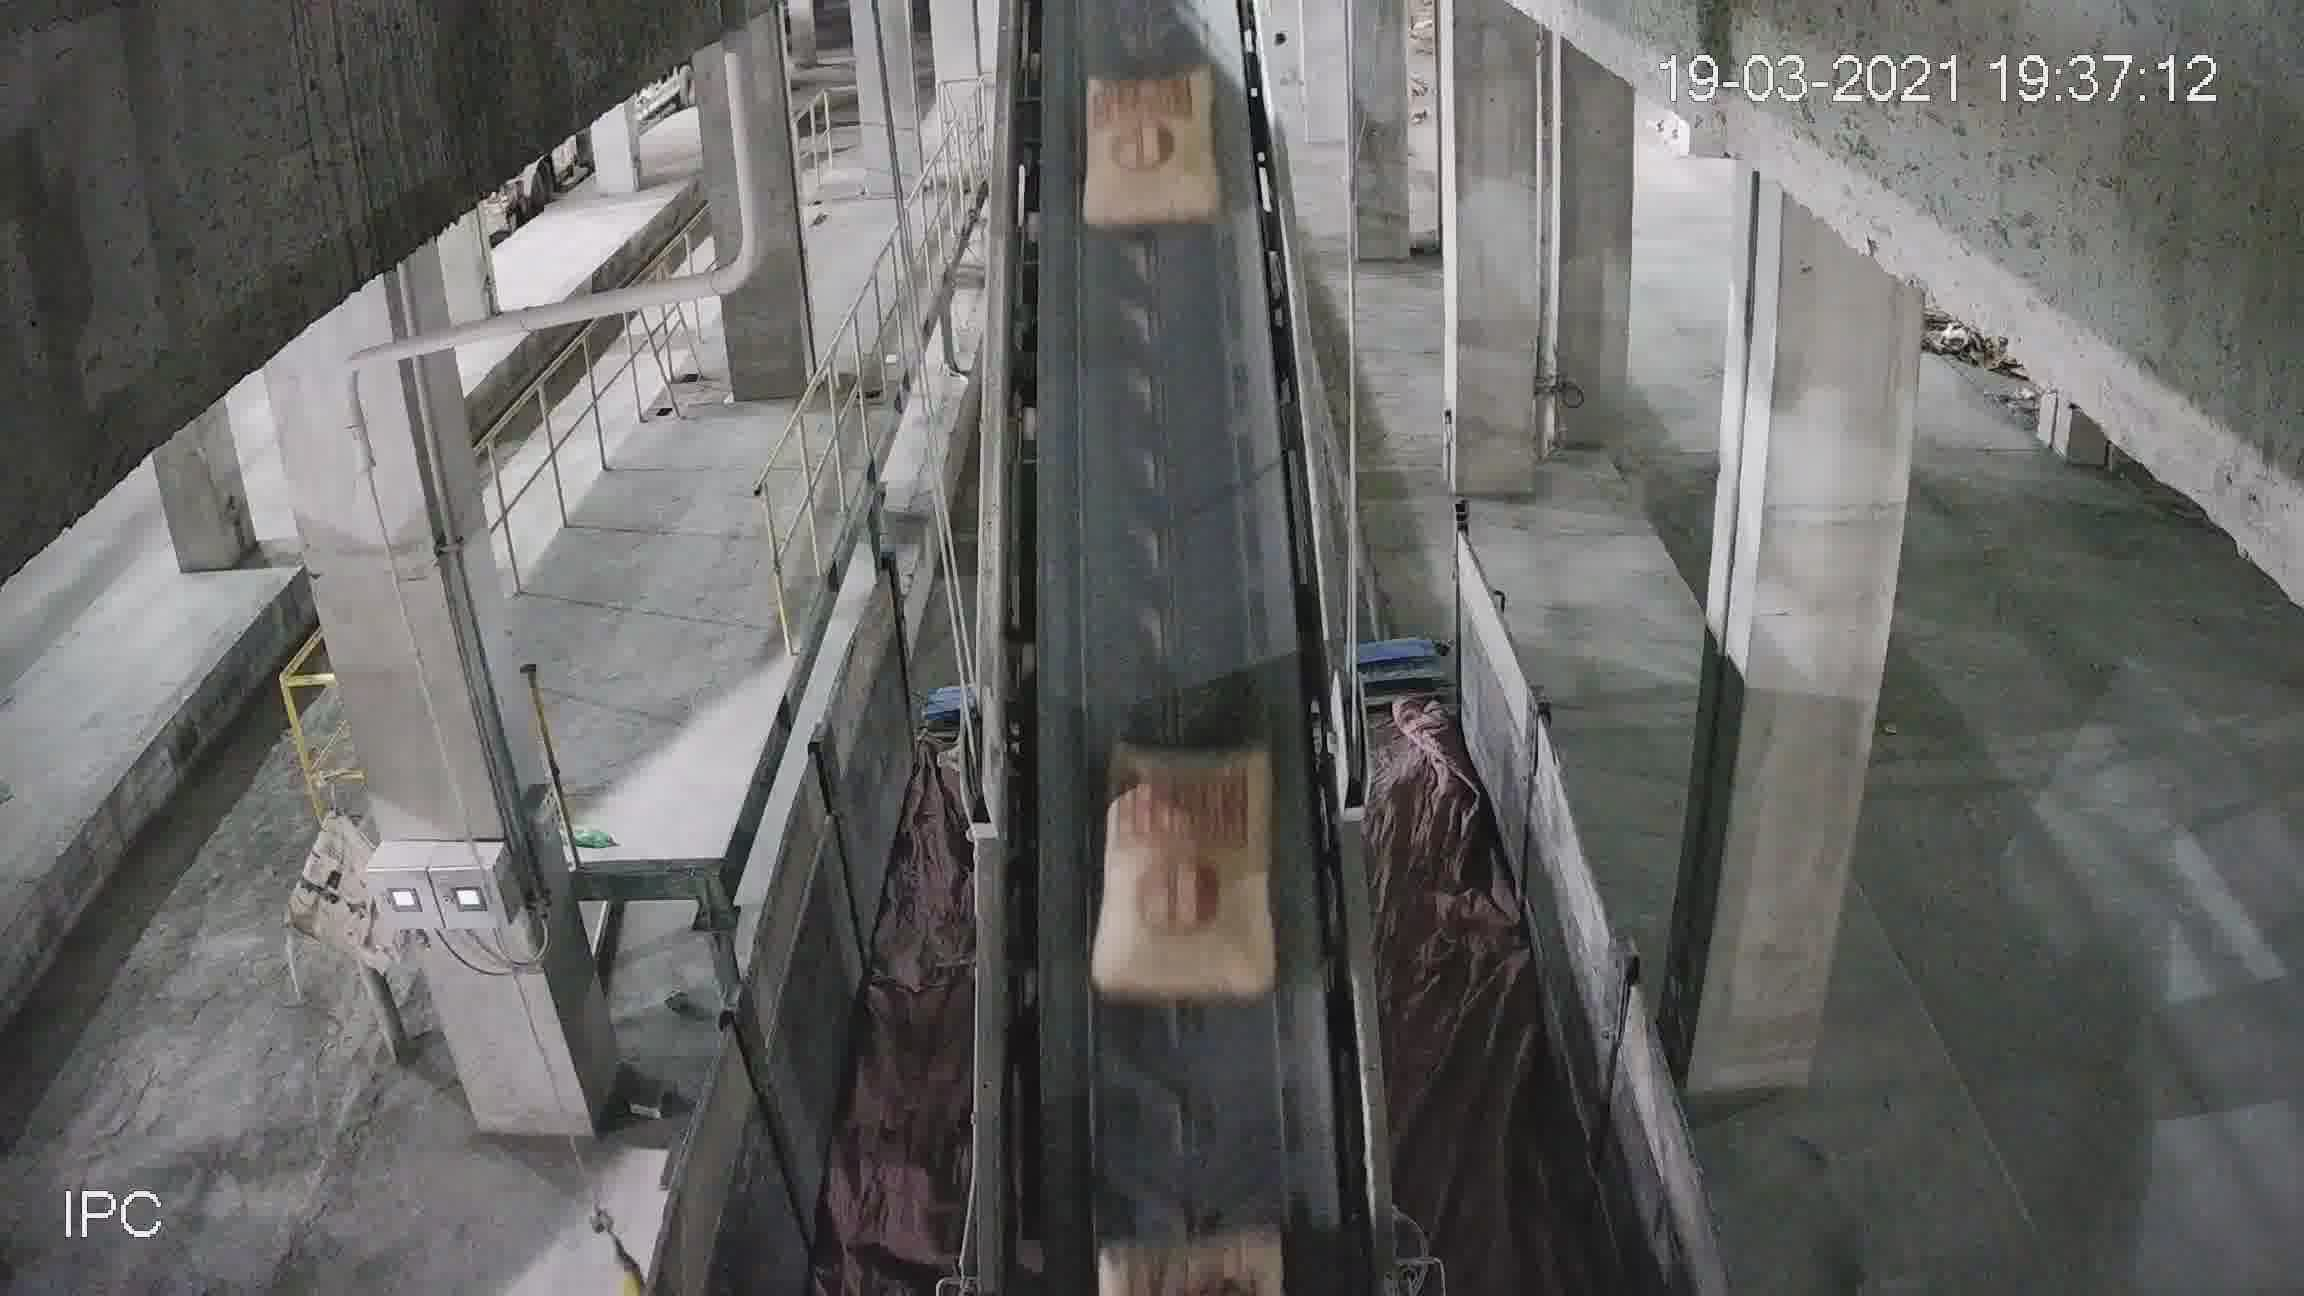bag: (1105, 755, 1280, 1013), (1082, 71, 1218, 231)
belt: (986, 21, 1336, 1120)
